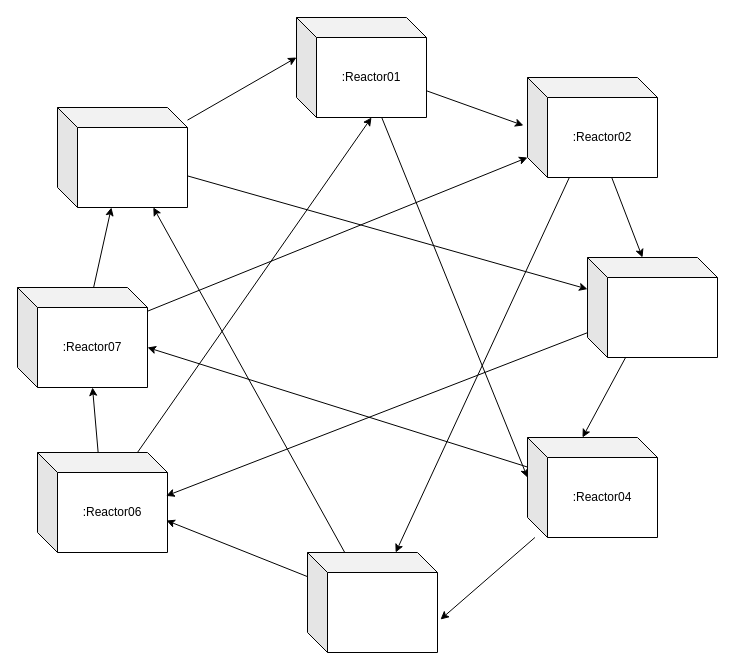
This 735x670 diagram has some shape labels left out. Here are the shapes that lost their labels. From the top down, the centre of each, then its label:
At (x=122, y=157): ":Reactor08".
At (x=652, y=307): ":Reactor03".
At (x=372, y=602): ":Reactor05".
